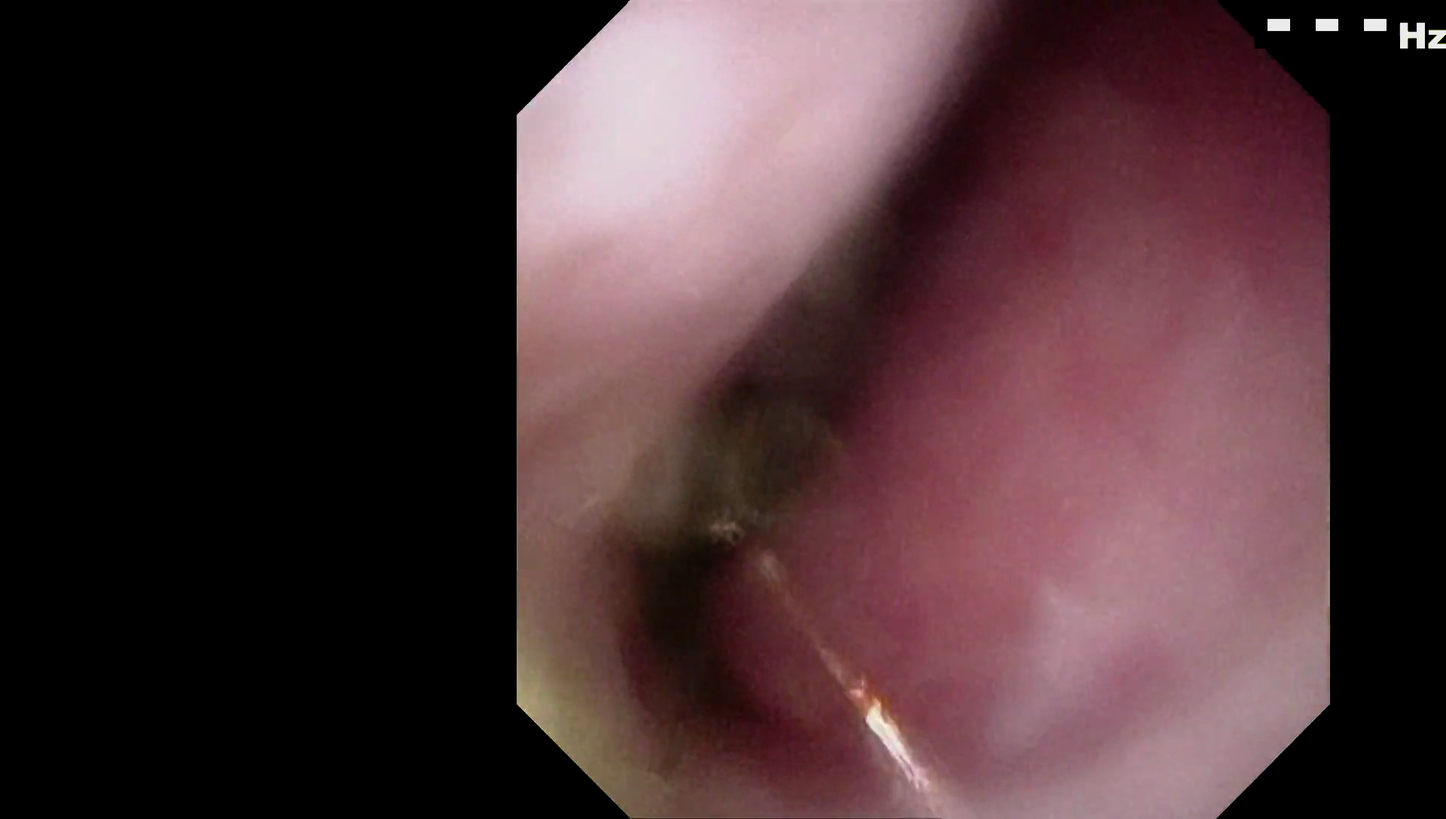close_wall: (579, 60, 918, 281)
next: (810, 31, 1049, 367), (602, 489, 862, 759)
